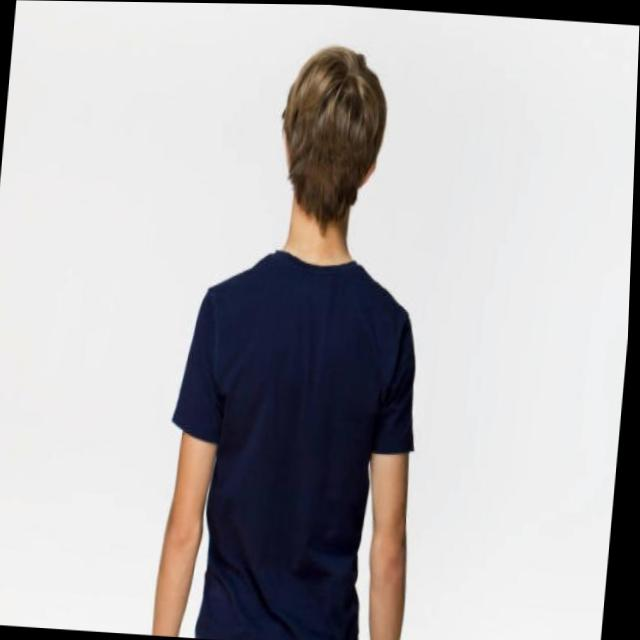no helmet: (267, 37, 396, 271)
